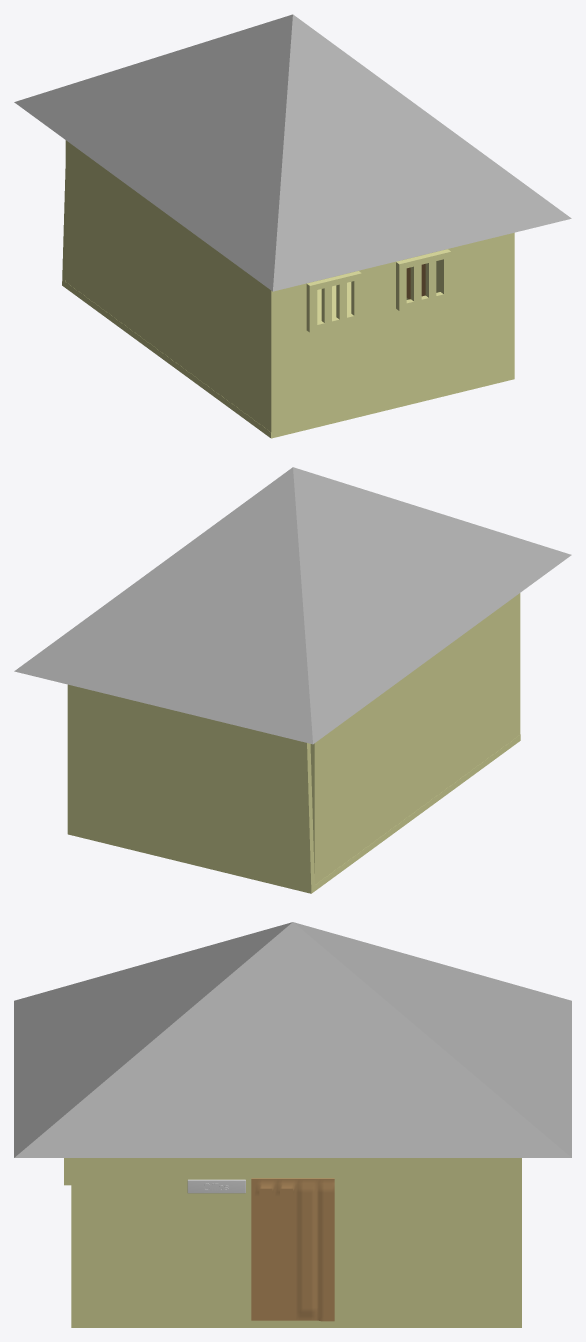
The model's file is office.gltf.
3 renders of one model, top to bottom at view 1: azimuth 30°, elevation 25°; view 2: azimuth 150°, elevation 25°; view 3: azimuth 270°, elevation 25°, orthographic. The views are drawn at different scales.
Visible parts, largest first — view 1: Pyramid, Cube; view 2: Pyramid, Cube; view 3: Pyramid, Cube, Cube.1, Cube.2.
Part boxes in pixels (x1,y1,x2,y2): Pyramid: (14, 14, 571, 291); Cube: (62, 140, 514, 438); Pyramid: (14, 467, 571, 744); Cube: (67, 593, 520, 893); Pyramid: (14, 922, 571, 1157); Cube: (64, 1158, 521, 1327); Cube.1: (251, 1178, 334, 1321); Cube.2: (187, 1179, 245, 1193).
Size of the model in its own units: 335 by 341 by 502.
